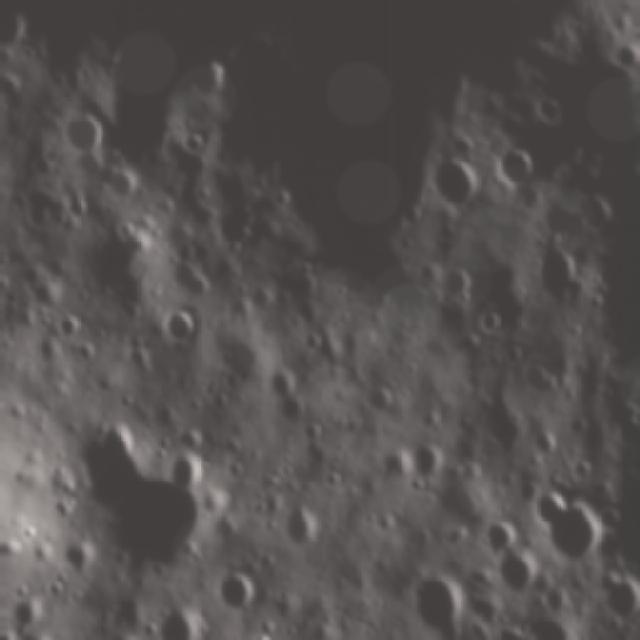crater: (52, 412, 230, 591), (528, 483, 608, 568), (394, 565, 466, 638), (465, 384, 530, 462), (206, 324, 271, 388), (424, 147, 490, 210), (266, 495, 328, 557), (200, 564, 263, 618), (568, 186, 622, 246), (481, 549, 542, 602), (55, 104, 111, 161), (162, 254, 216, 309), (492, 138, 545, 194), (159, 446, 212, 494), (595, 568, 640, 624), (100, 162, 146, 204), (158, 305, 198, 349), (409, 442, 449, 484), (476, 517, 516, 554), (361, 378, 396, 418), (531, 89, 566, 128), (72, 335, 106, 371), (178, 126, 213, 160), (53, 308, 82, 342)
